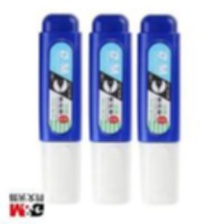correction_fluid: (135, 11, 183, 209), (86, 11, 133, 208), (36, 13, 83, 206)
